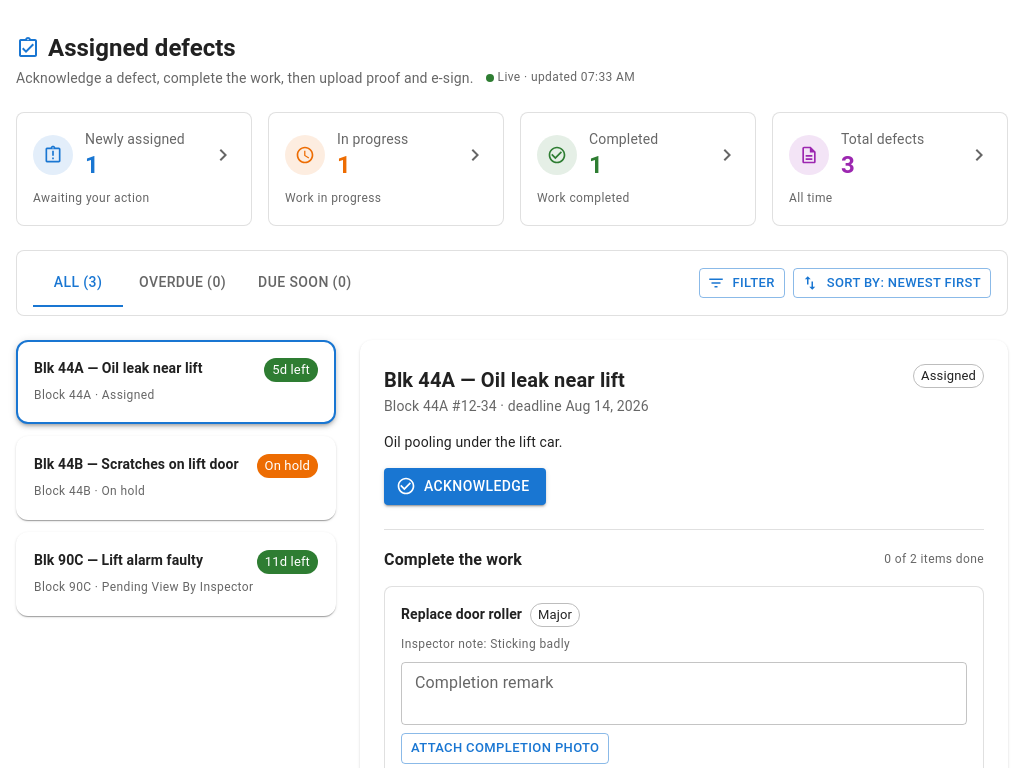
Test: ContractorInboxPage › counts and filters › the tiles split the inbox by what is left to do, and filter to it
Check: the tab "All (3)" is shown, box [33, 259, 123, 307]
# A tile is a filter, not just a number.
Click the text "In progress": (373, 139) [337, 131, 408, 147]
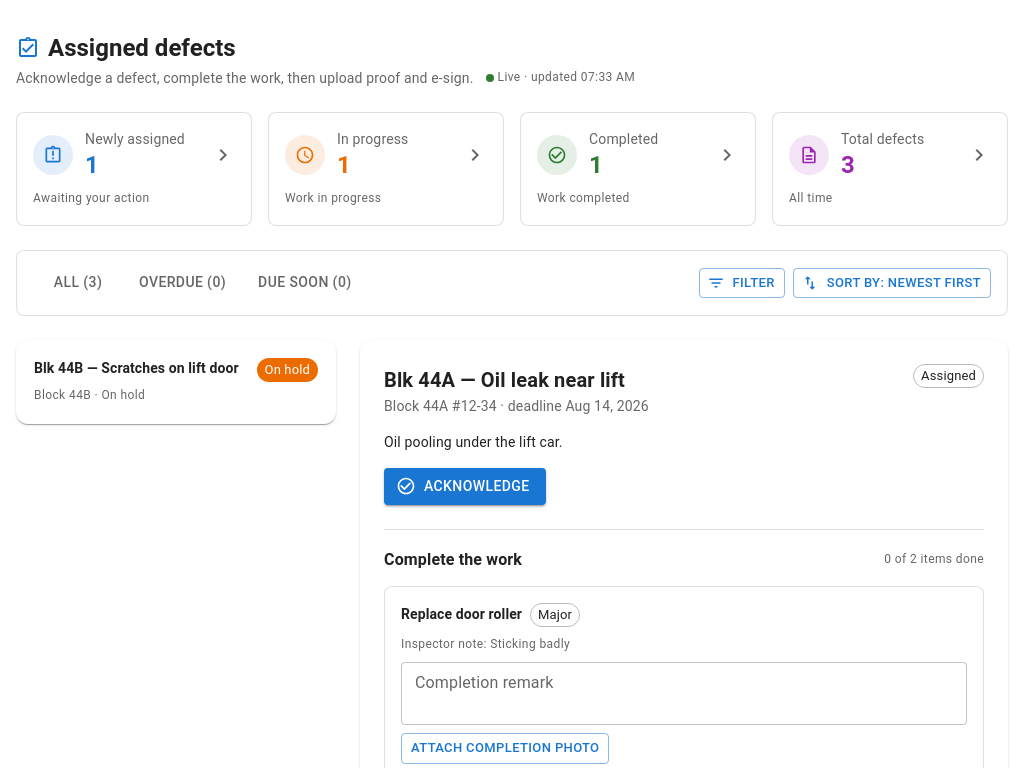
Check: the heading "Blk 44B — Scratches on lift door" is shown, box [34, 358, 247, 380]
Check: the heading "Blk 90C — Lift alarm faulty" is gone
